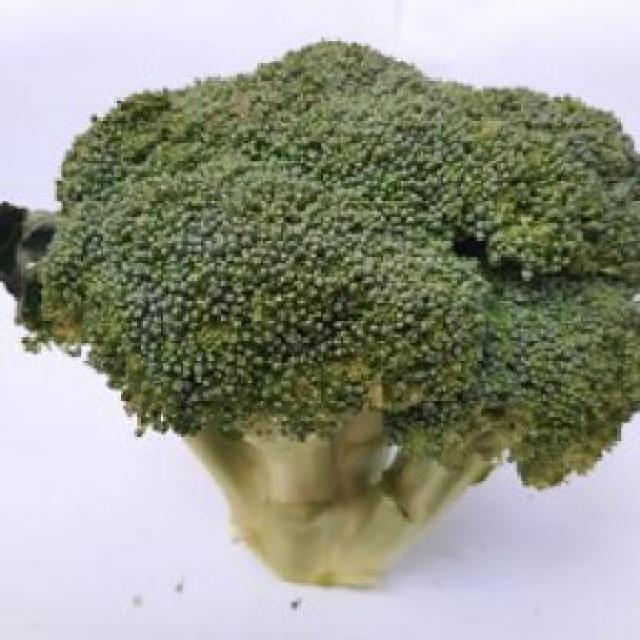broccoli: (43, 51, 632, 586)
